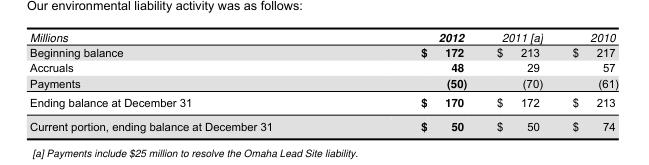table: (29, 28, 617, 133)
table column: (29, 28, 346, 133), (346, 28, 481, 133), (481, 28, 556, 133), (556, 28, 617, 133)
table column header: (29, 28, 617, 44)
table row: (29, 92, 617, 113), (29, 113, 617, 133), (29, 74, 617, 92), (29, 28, 617, 44), (29, 44, 617, 59), (29, 59, 617, 74)
